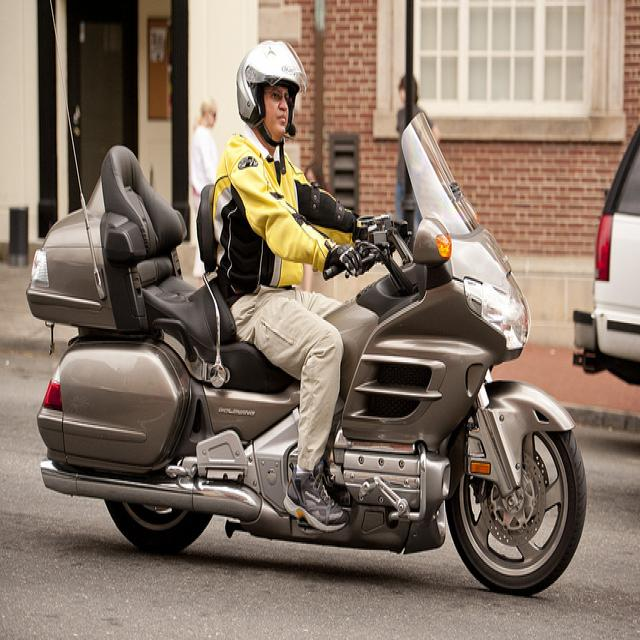motor: (25, 111, 588, 598)
